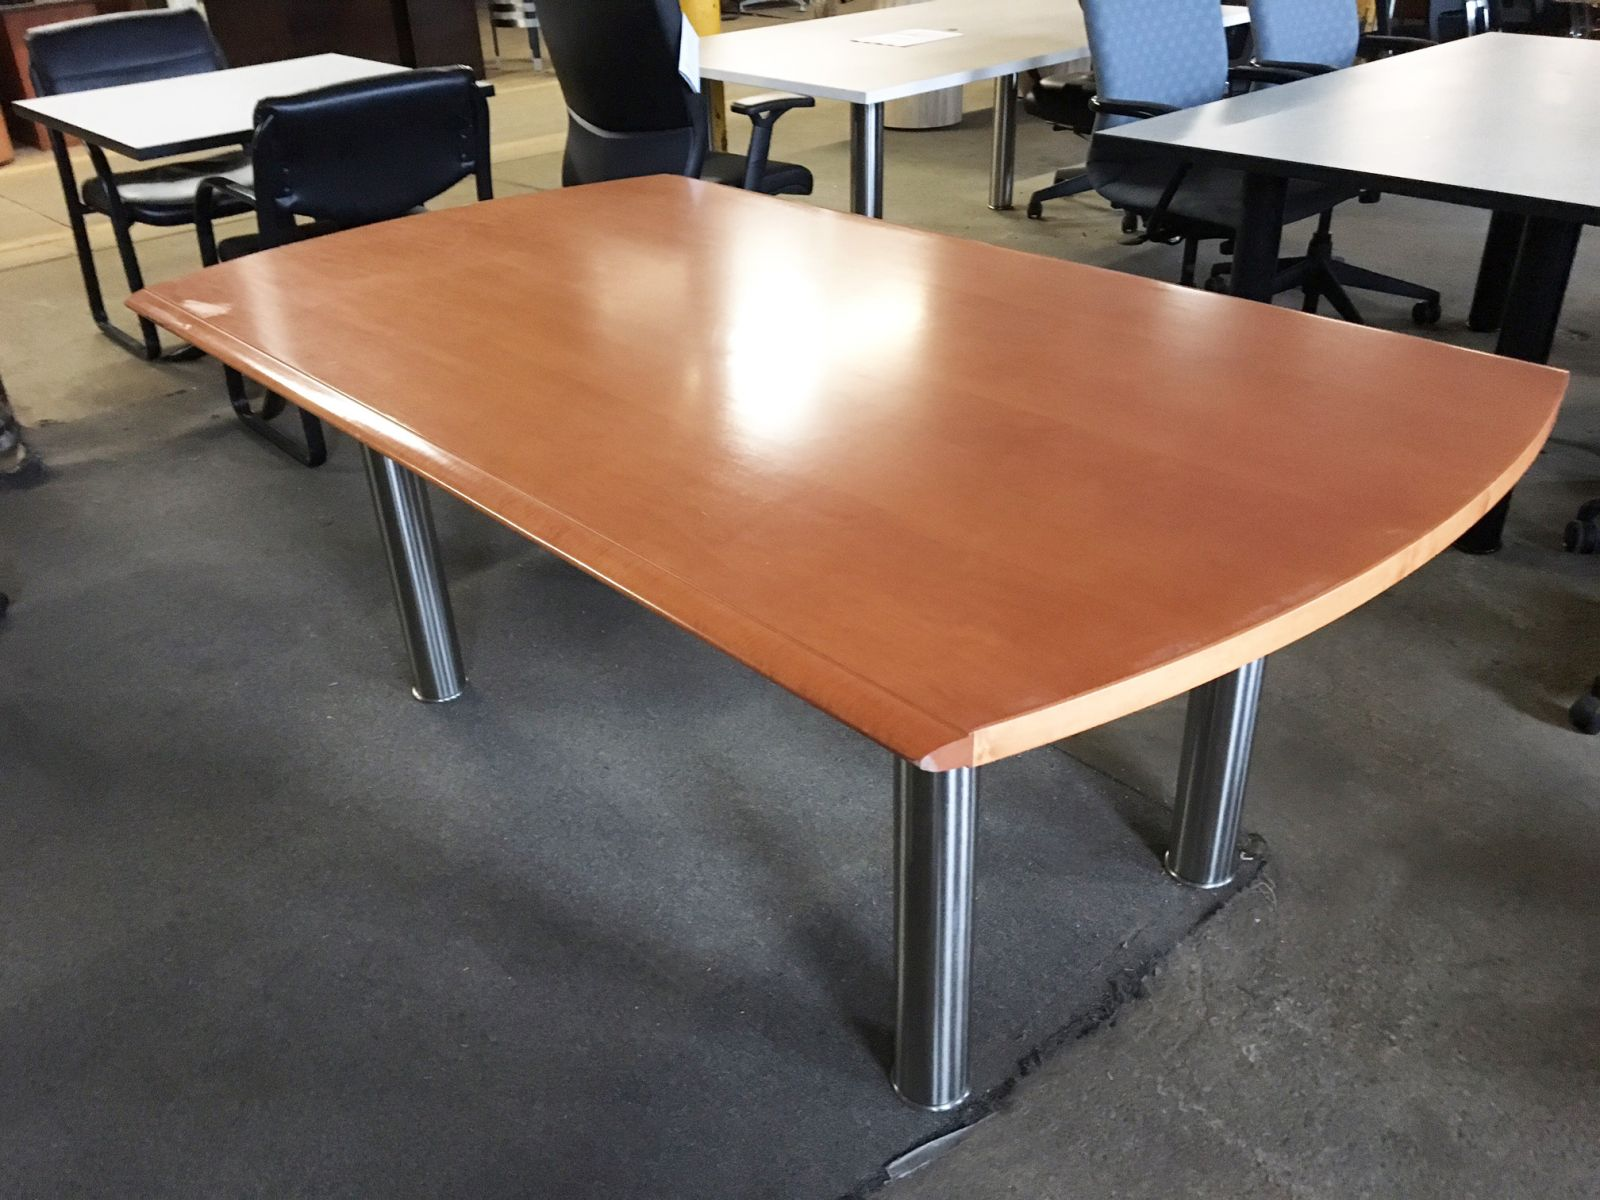conference_table: (127, 175, 1569, 1110), (1094, 32, 1600, 364), (10, 49, 505, 363), (694, 1, 1272, 222)
